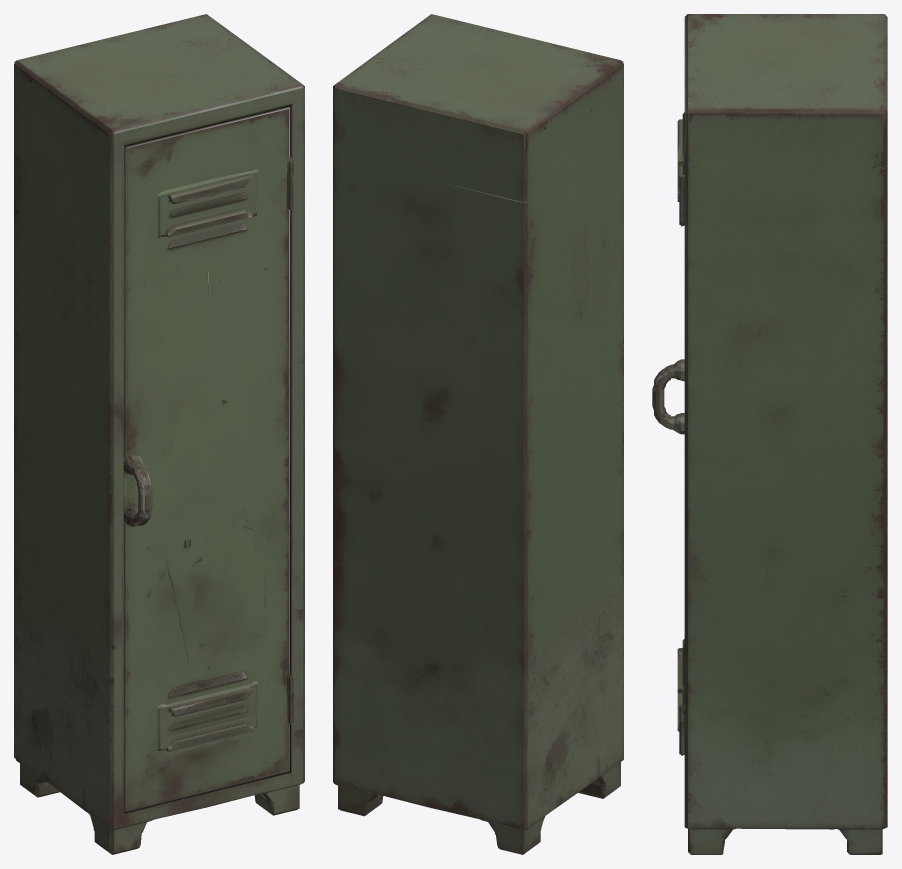
The model's file is armario.glb.
3 views of the same model, side by side, from view 1: azimuth 30°, elevation 25°; view 2: azimuth 150°, elevation 25°; view 3: azimuth 270°, elevation 25° (orthographic). The views are drawn at different scales.
Parts seen in each view (by area): view 1: mesh_node; view 2: mesh_node; view 3: mesh_node.
Part boxes in pixels (x1=…): mesh_node: x1=14, y1=14, x2=304, y2=854; mesh_node: x1=333, y1=14, x2=623, y2=854; mesh_node: x1=652, y1=14, x2=887, y2=854.
Size of the model in its own units: 0.5362 by 1.91 by 0.544.
Materials: 1 (1 with a texture image).
